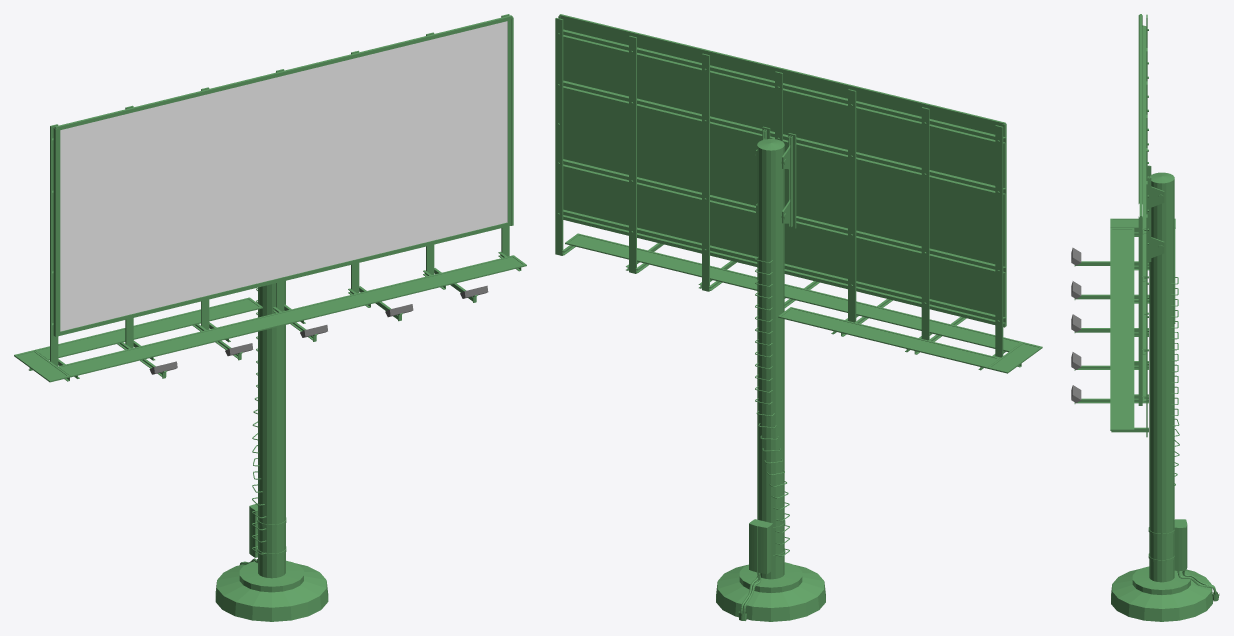
File: Billboard-transformed.glb
3 views of the same model, side by side, from view 1: azimuth 30°, elevation 25°; view 2: azimuth 150°, elevation 25°; view 3: azimuth 270°, elevation 25° (orthographic). The views are drawn at different scales.
Parts seen in each view (by area): view 1: Object_4, Object_5, Object_6; view 2: Object_5; view 3: Object_5, Object_6.
Boxes of the visible parts, x1,y1,x2,y2 form: Object_4: (60, 21, 507, 331); Object_5: (14, 14, 526, 621); Object_6: (149, 285, 488, 374); Object_5: (555, 14, 1042, 621); Object_5: (1074, 14, 1219, 621); Object_6: (1071, 247, 1081, 403).
Size of the model in its own units: 218 by 232 by 64.25.
